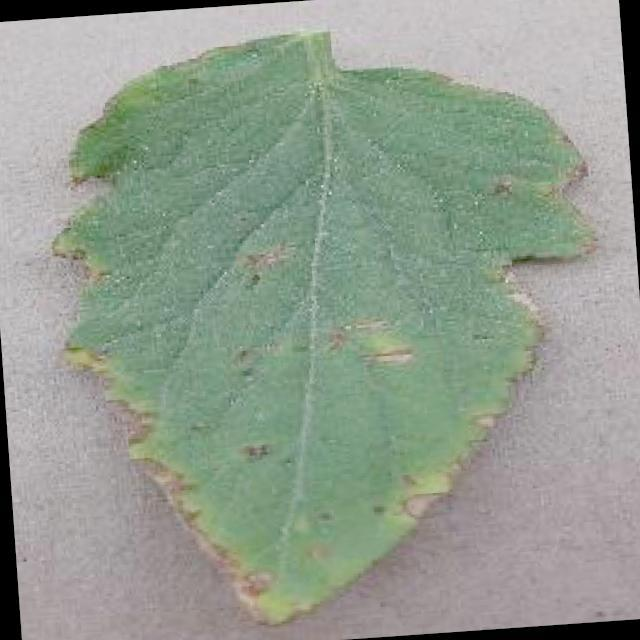Tomato bacterial spot leaf: (26, 0, 627, 640)
